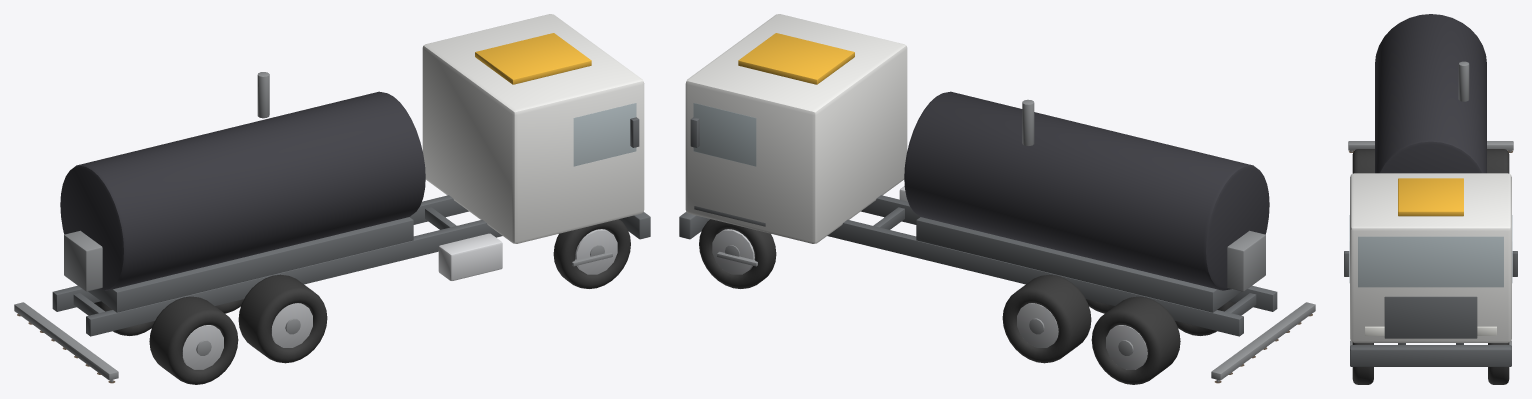
File: EQP-ASF-002_anim.glb
3 renders of one model, left to right at view 1: azimuth 30°, elevation 25°; view 2: azimuth 150°, elevation 25°; view 3: azimuth 270°, elevation 25°, orthographic. The views are drawn at different scales.
Parts seen in each view (by area): view 1: EQP-ASF-002_anim15, EQP-ASF-002_anim4, EQP-ASF-002_anim2, EQP-ASF-002_anim0; view 2: EQP-ASF-002_anim15, EQP-ASF-002_anim5, EQP-ASF-002_anim3, EQP-ASF-002_anim1; view 3: EQP-ASF-002_anim15, EQP-ASF-002_anim4, EQP-ASF-002_anim5, EQP-ASF-002_anim0, EQP-ASF-002_anim1.
Boxes of the visible parts, bbox=[...] form: EQP-ASF-002_anim15: bbox=[14, 14, 650, 382]; EQP-ASF-002_anim4: bbox=[149, 296, 238, 384]; EQP-ASF-002_anim2: bbox=[238, 274, 327, 363]; EQP-ASF-002_anim0: bbox=[553, 219, 630, 288]; EQP-ASF-002_anim15: bbox=[679, 14, 1315, 382]; EQP-ASF-002_anim5: bbox=[1091, 296, 1180, 384]; EQP-ASF-002_anim3: bbox=[1002, 274, 1091, 363]; EQP-ASF-002_anim1: bbox=[699, 219, 776, 288]; EQP-ASF-002_anim15: bbox=[1344, 14, 1517, 366]; EQP-ASF-002_anim4: bbox=[1352, 149, 1374, 173]; EQP-ASF-002_anim5: bbox=[1487, 149, 1509, 173]; EQP-ASF-002_anim0: bbox=[1352, 342, 1373, 384]; EQP-ASF-002_anim1: bbox=[1488, 342, 1509, 384].
Size of the model in its own units: 8.23 by 3.4 by 2.63.
